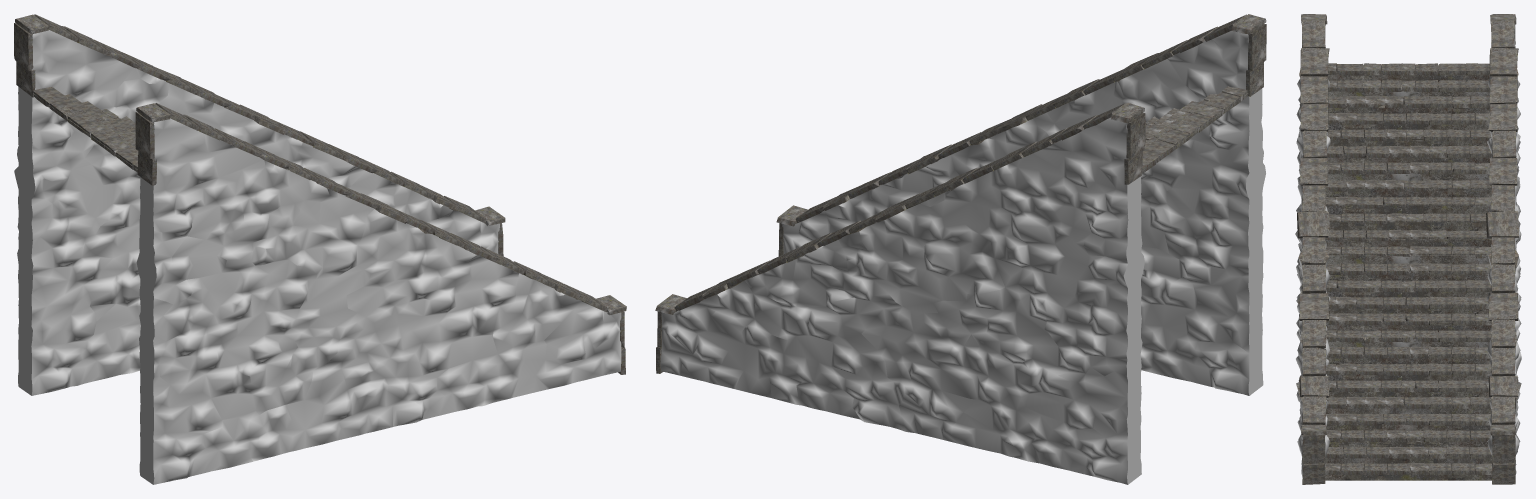
The model's file is SM_Main_Stairs.fbx.
The picture shows the model from 3 angles, left to right: view 1: azimuth 30°, elevation 25°; view 2: azimuth 150°, elevation 25°; view 3: azimuth 270°, elevation 25°; orthographic projection. The views are drawn at different scales.
Parts seen in each view (by area): view 1: SM_Main_Stairs_LOD0; view 2: SM_Main_Stairs_LOD0; view 3: SM_Main_Stairs_LOD0.
Boxes of the visible parts, bbox=[...] form: SM_Main_Stairs_LOD0: bbox=[14, 14, 626, 484]; SM_Main_Stairs_LOD0: bbox=[655, 14, 1266, 484]; SM_Main_Stairs_LOD0: bbox=[1295, 14, 1521, 484].
Bounding box in the file's own units: 815 × 430 × 609.
